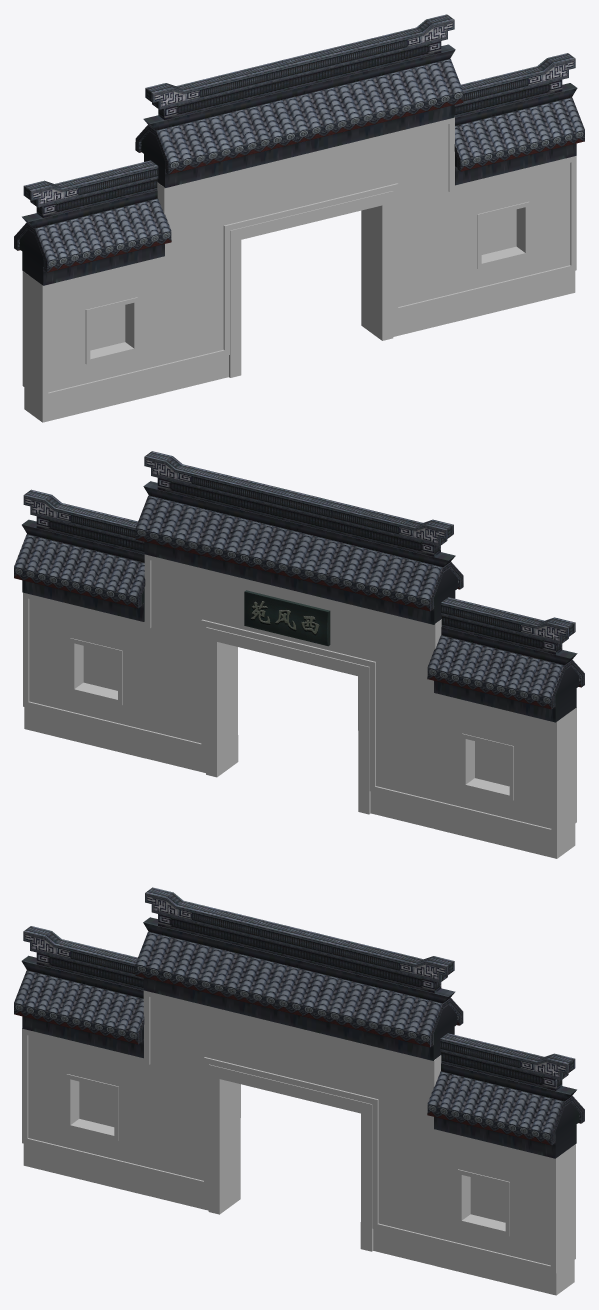
Rendered from furni_0210014.FBX.
The picture shows the model from 3 angles, top to bottom: view 1: azimuth 30°, elevation 25°; view 2: azimuth 150°, elevation 25°; view 3: azimuth 330°, elevation 25°; orthographic projection.
Parts seen in each view (by area): view 1: furni_0210014; view 2: furni_0210014; view 3: furni_0210014.
Part boxes in pixels (left/top/right/bottom): furni_0210014: left=14, top=14, right=584, bottom=422; furni_0210014: left=14, top=451, right=584, bottom=858; furni_0210014: left=14, top=887, right=584, bottom=1295.
Bounding box in the file's own units: 1489 × 769 × 157.
